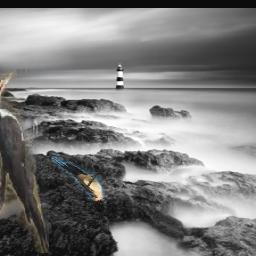Swallow: (52, 157, 106, 202)
Woodpecker: (0, 69, 49, 253)
